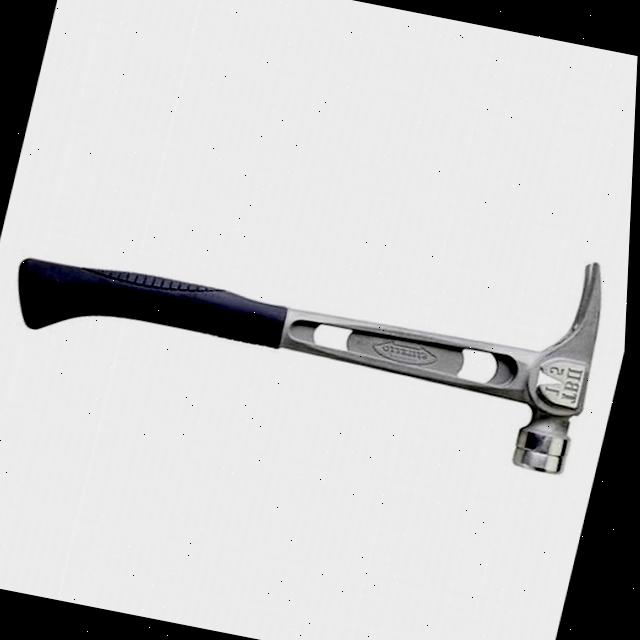hammer: (0, 147, 632, 491)
